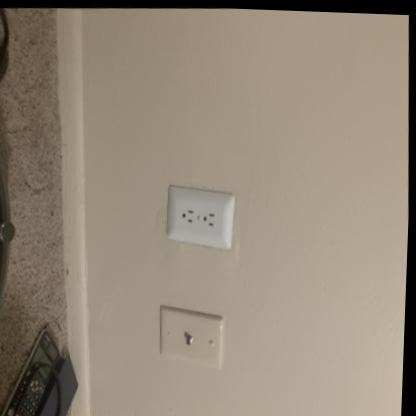OUTLET: (166, 181, 239, 246)
